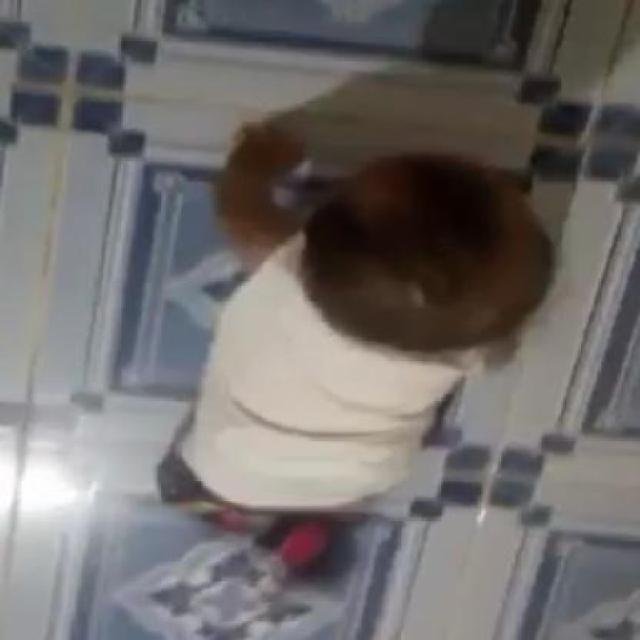baby: (155, 114, 548, 578)
